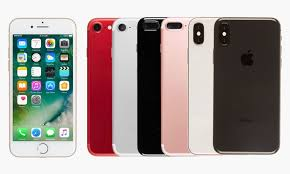iphone: (6, 16, 79, 158), (208, 15, 281, 157)
iphone7: (6, 15, 79, 157)
